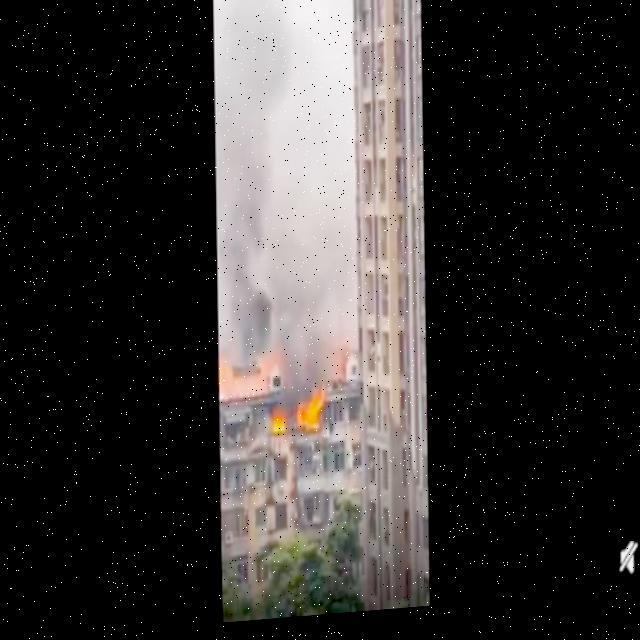Fire: (292, 391, 326, 443), (268, 406, 286, 443)
